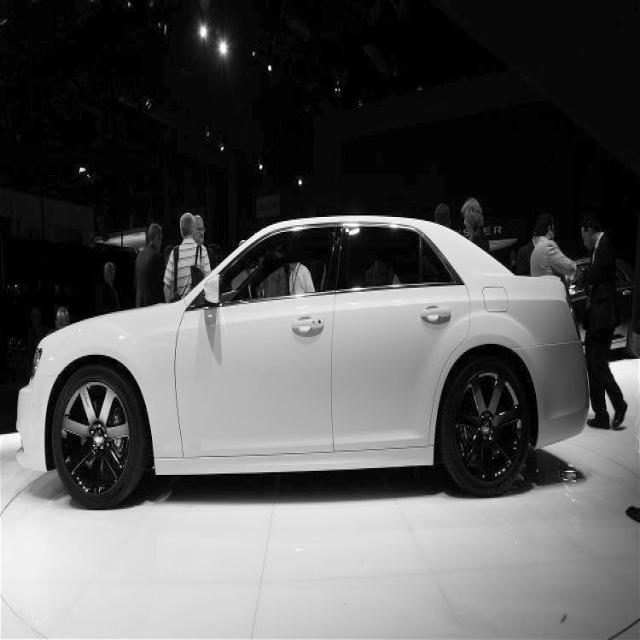car: (14, 213, 590, 509)
